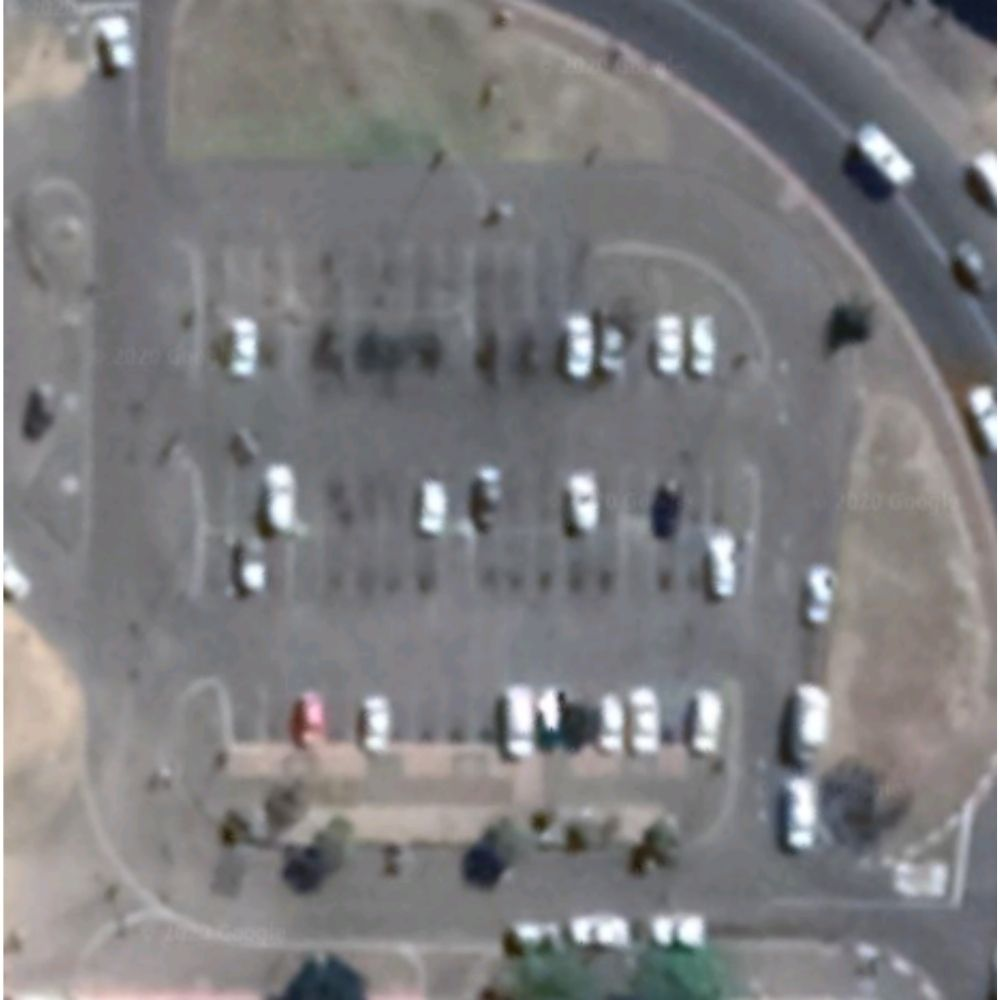parking: (180, 240, 740, 755)
